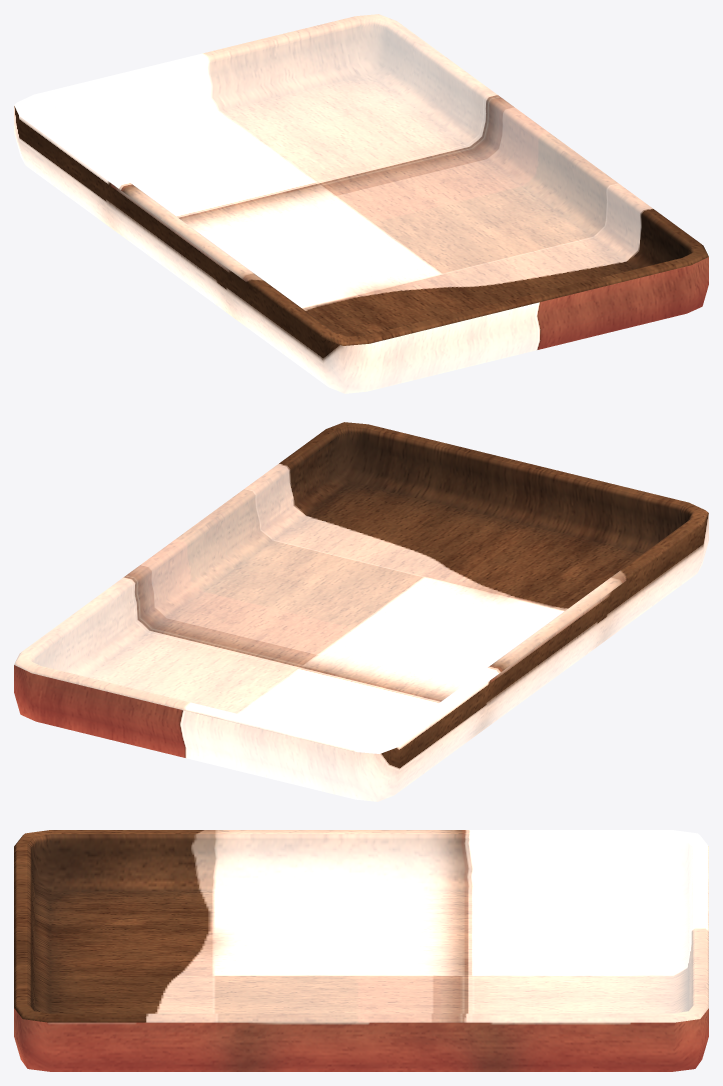
Rendered from SM_Tray_Small.fbx.
3 views of the same model, one above another, from view 1: azimuth 30°, elevation 25°; view 2: azimuth 150°, elevation 25°; view 3: azimuth 270°, elevation 25° (orthographic). The views are drawn at different scales.
Visible parts, largest first — view 1: SM_Tray_Small_LOD0; view 2: SM_Tray_Small_LOD0; view 3: SM_Tray_Small_LOD0.
Part boxes in pixels (x1,y1,x2,y2): SM_Tray_Small_LOD0: (14,14,708,393); SM_Tray_Small_LOD0: (14,422,708,801); SM_Tray_Small_LOD0: (14,830,708,1071).
Bounding box in the file's own units: 13 × 20 × 2.
